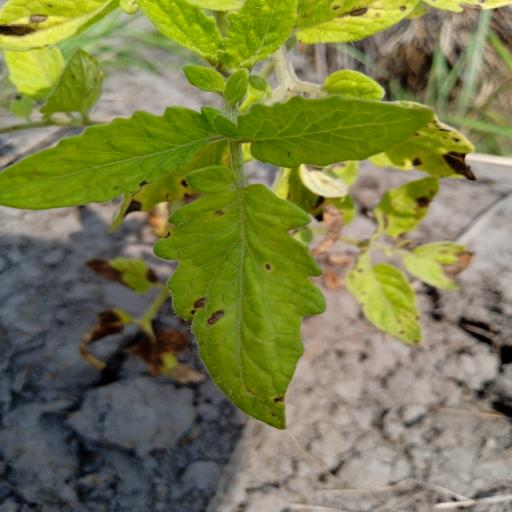Tomato_Brown_Spots: (156, 159, 330, 431), (0, 102, 236, 210), (238, 94, 440, 170)
